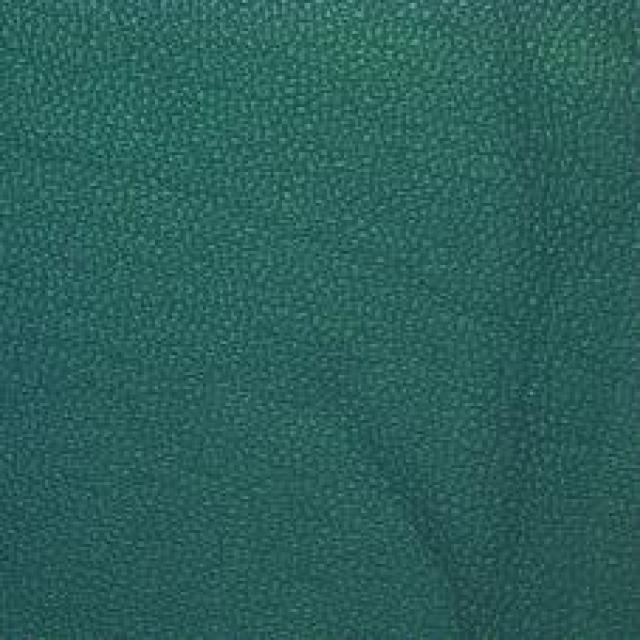Growth Marks: (302, 333, 473, 558), (480, 65, 620, 318)
